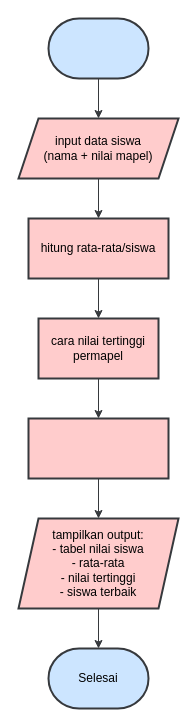
Image size: 196x726. Some labels were removed from this diagram. Each missing label, with the centre of its shape:
"Mulai" belongs at pixel 98 48.
"tentukan siswa dengan nilai tertinggi" belongs at pixel 98 448.
